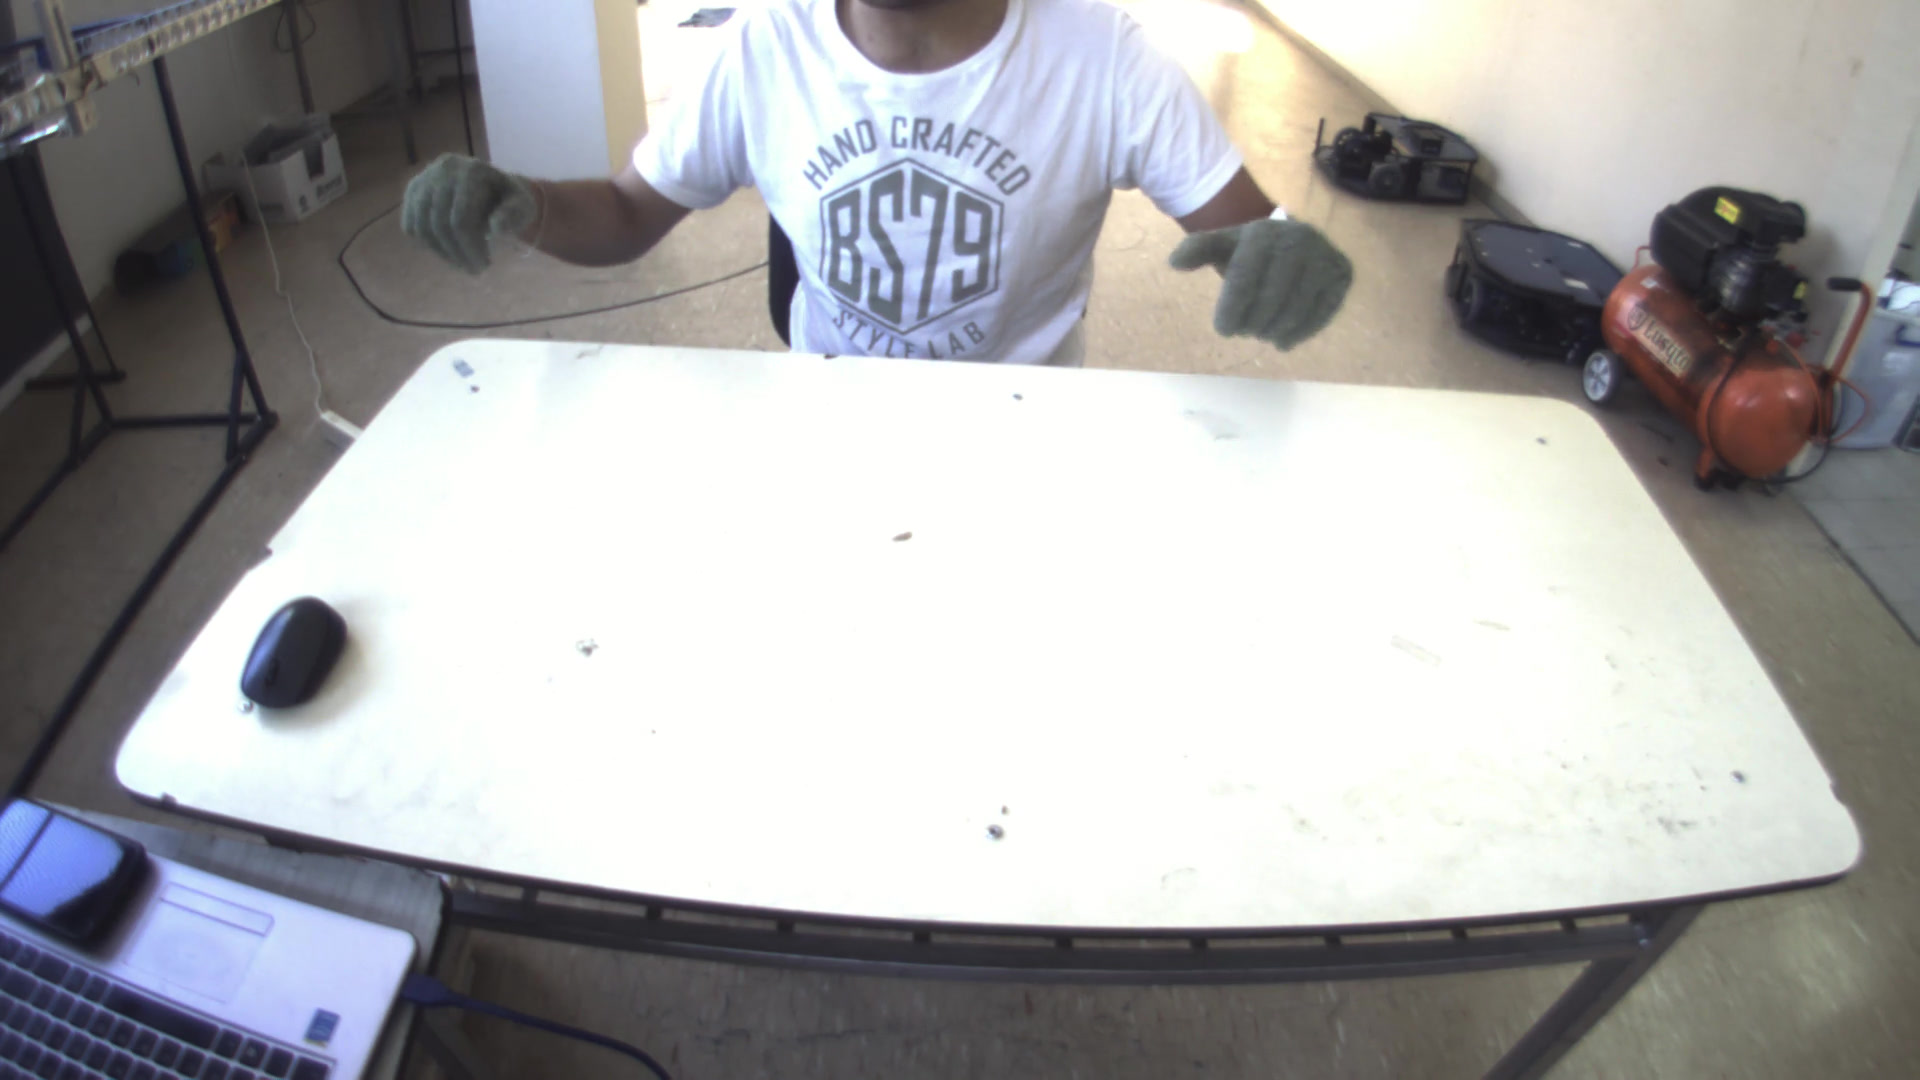hand: (1168, 206, 1367, 347), (382, 142, 529, 264)
